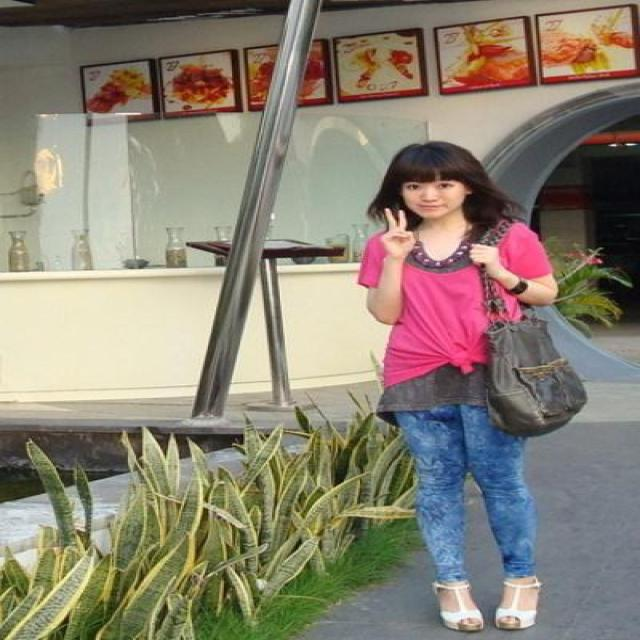bag: (483, 320, 586, 439)
pants: (397, 404, 555, 592)
shirt: (348, 218, 550, 419)
shoe: (435, 577, 539, 626)
